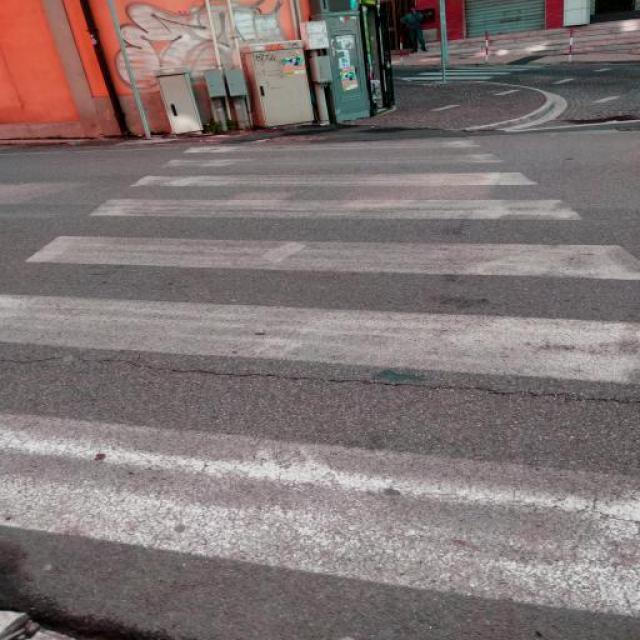crosswalk: (0, 135, 640, 620), (403, 64, 548, 80)
